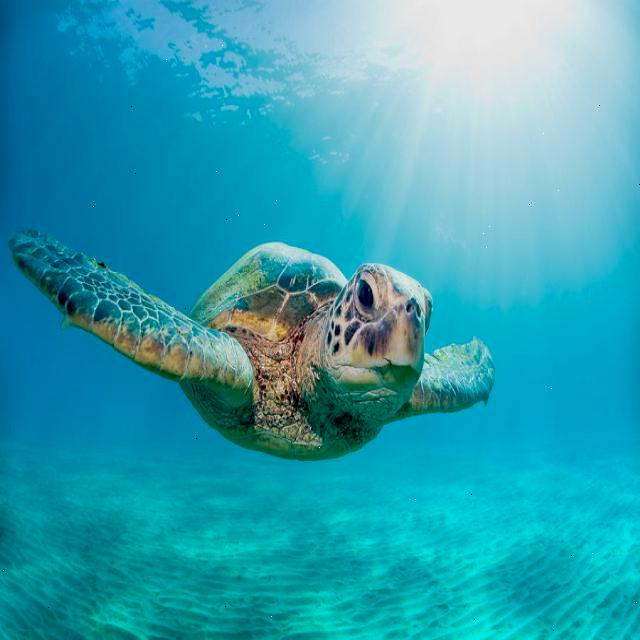tortoise: (13, 214, 501, 462)
